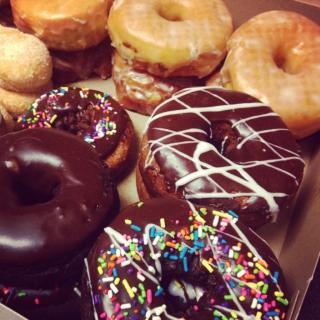Doughnut: (0, 0, 319, 319), (6, 81, 142, 192)
